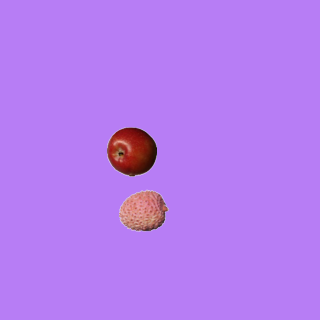Apple Braeburn: (106, 126, 156, 176)
Lychee: (118, 185, 168, 235)
